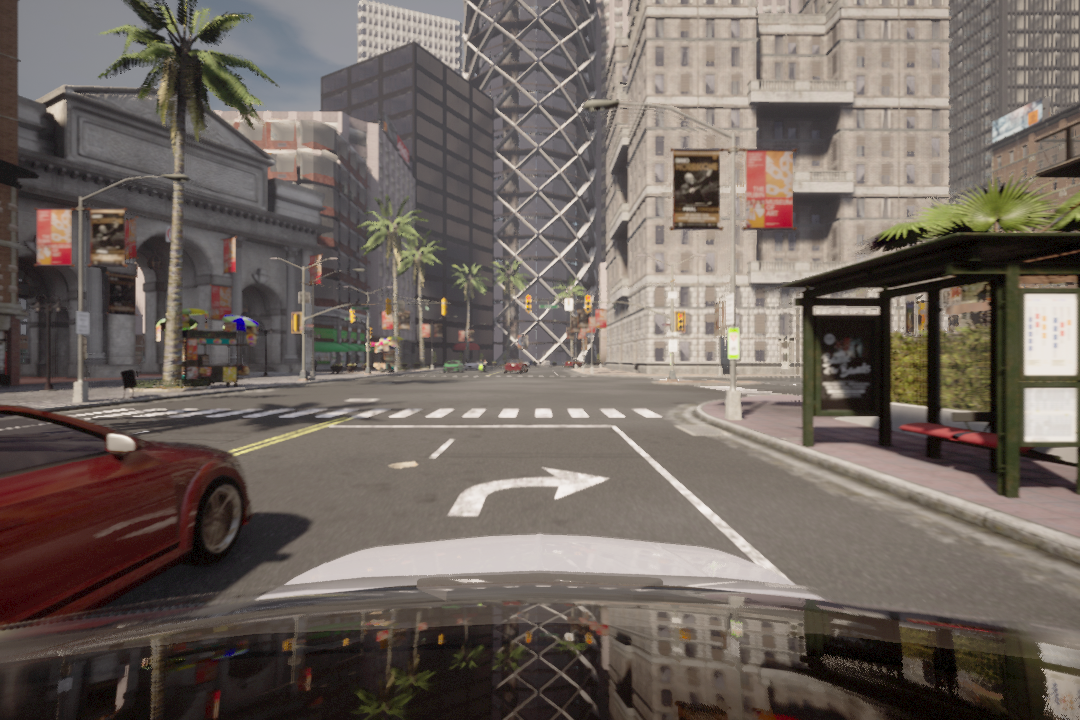RoadSign_right: (444, 460, 619, 523)
TrafficLight: (584, 293, 593, 316), (523, 294, 533, 314), (676, 311, 685, 332)
walkside: (74, 399, 675, 430)
